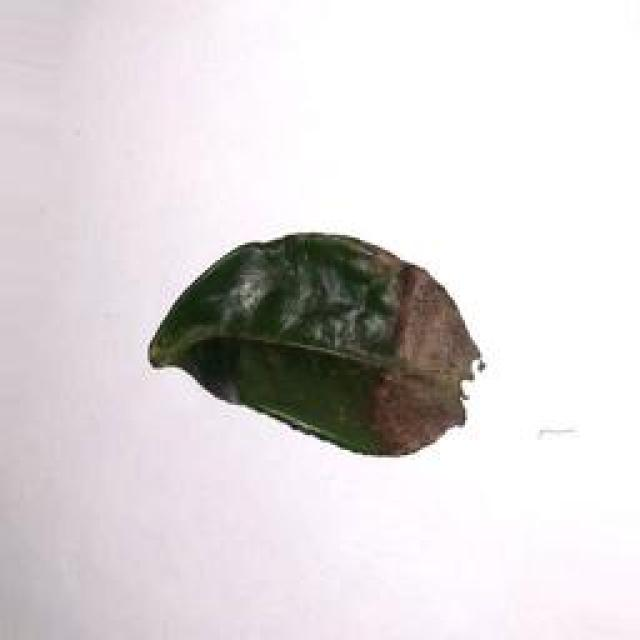Brown Blight: (139, 228, 487, 467)
